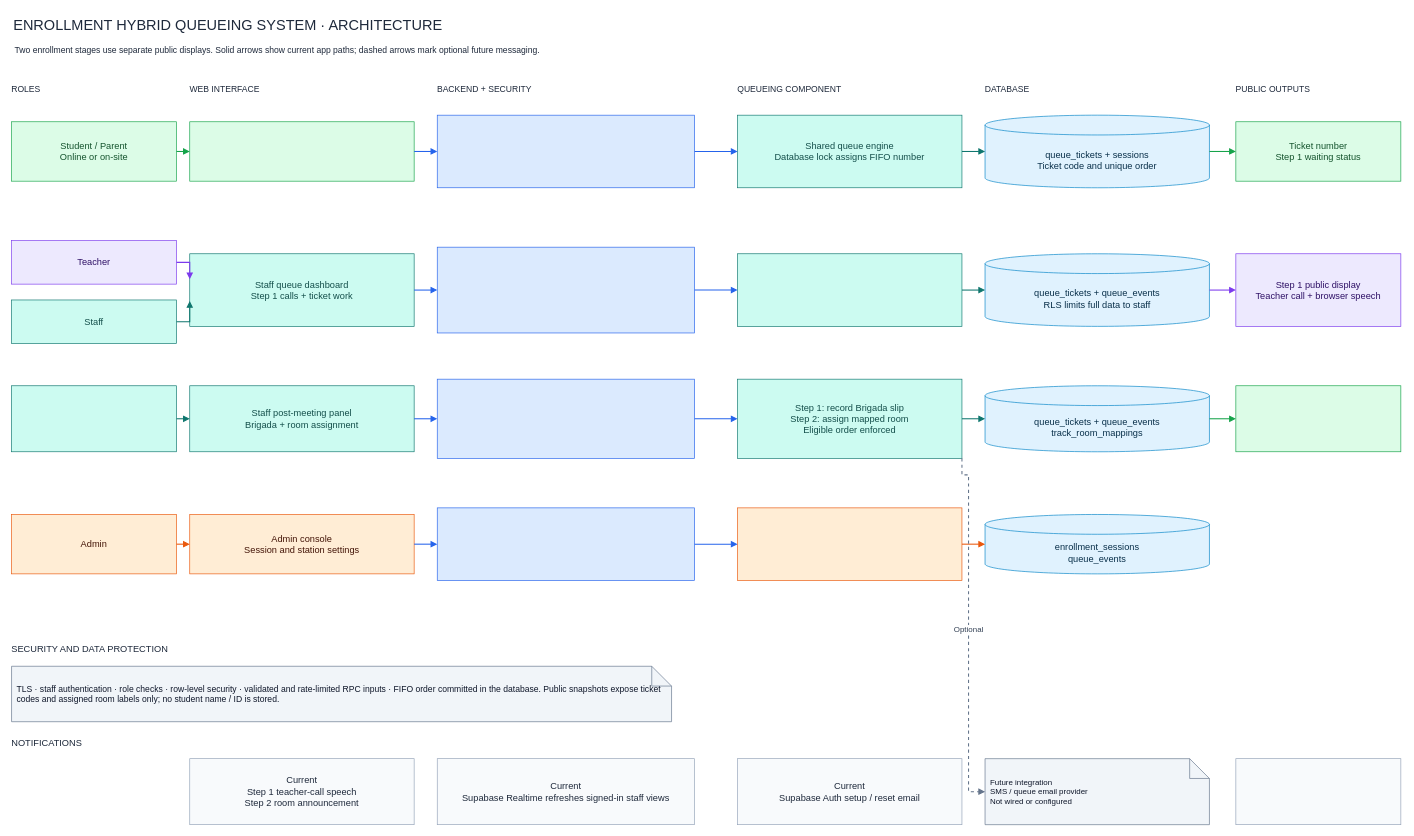
The diagram is 1414 pixels wide and 836 high, and some of its shapes have lost their labels. Each missing label, with the centre of its shape:
"Both public displays poll a limited snapshot every 5 seconds" belongs at point (1318, 791).
"Call earliest Step 1 ticket Complete meeting / recall / skip" belongs at point (849, 289).
"Edit session label / station Pause, resume, or close requests" belongs at point (849, 543).
"Enrollment form Online page + on-site kiosk" belongs at point (301, 151).
"Public issue RPC Allowlist validation · throttling No student account" belongs at point (566, 151).
"Staff Enrollment desk" belongs at point (94, 418).
"Step 2 public display Ticket code + assigned room" belongs at point (1318, 418).
"Supabase Auth + staff role staff_queue_action RPC" belongs at point (566, 418).
"Supabase Auth Admin role check + session RPC" belongs at point (566, 543).
"Supabase Auth Role check · staff_queue_action Valid state transitions" belongs at point (566, 290).
